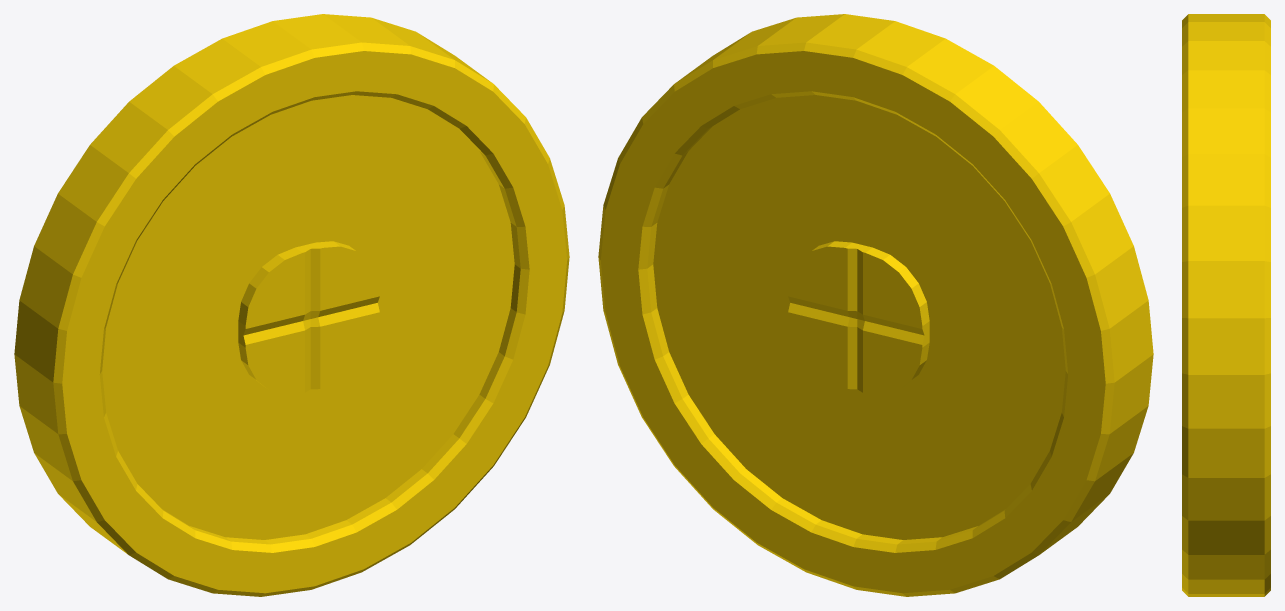
The model's file is Coin.fbx.
3 views of the same model, side by side, from view 1: azimuth 30°, elevation 25°; view 2: azimuth 150°, elevation 25°; view 3: azimuth 270°, elevation 25° (orthographic). The views are drawn at different scales.
Visible parts, largest first — view 1: Cylinder; view 2: Cylinder; view 3: Cylinder.
Boxes of the visible parts, box(x1,y1,x2,y2) form: Cylinder: box(14, 14, 569, 596); Cylinder: box(598, 14, 1153, 596); Cylinder: box(1182, 14, 1270, 596).
Size of the model in its own units: 0.7134 by 0.7134 by 0.1087.
1 material, 1 textured.
